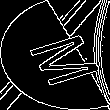M_NE: (11, 24, 99, 86)
